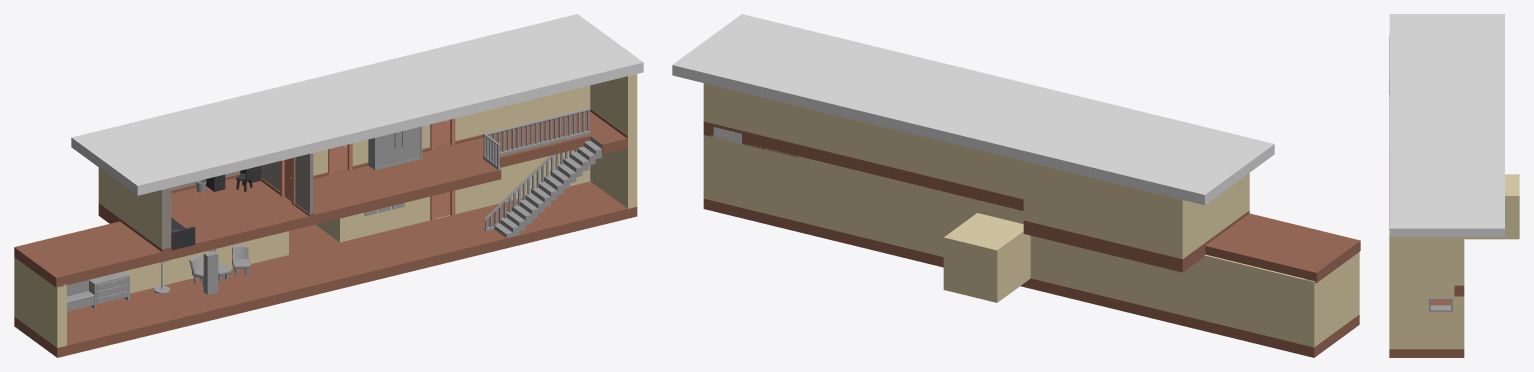
Rendered from Level1.fbx.
The picture shows the model from 3 angles, left to right: view 1: azimuth 30°, elevation 25°; view 2: azimuth 150°, elevation 25°; view 3: azimuth 270°, elevation 25°; orthographic projection. The views are drawn at different scales.
Visible parts, largest first — view 1: Dach, Untergeschoss, Obergeschoss, wand, pCube31, Person, polySurface2, Garderobe, polySurface3, Bett, pCube22, polySurface1; view 2: Untergeschoss, Dach, Obergeschoss; view 3: Dach, wand, Untergeschoss, Obergeschoss, Fenster_Untergeschoss.
Part boxes in pixels (left/top/right/bottom): Dach: left=71, top=14, right=643, bottom=195; Untergeschoss: left=14, top=150, right=637, bottom=357; Obergeschoss: left=14, top=85, right=627, bottom=287; wand: left=590, top=74, right=637, bottom=208; pCube31: left=89, top=271, right=129, bottom=308; Person: left=203, top=251, right=218, bottom=294; polySurface2: left=398, top=127, right=419, bottom=162; Garderobe: left=67, top=280, right=94, bottom=311; polySurface3: left=377, top=132, right=398, bottom=167; Bett: left=171, top=218, right=195, bottom=250; pCube22: left=483, top=130, right=590, bottom=170; polySurface1: left=368, top=126, right=422, bottom=170; Untergeschoss: left=703, top=135, right=1359, bottom=357; Dach: left=672, top=14, right=1274, bottom=205; Obergeschoss: left=703, top=83, right=1360, bottom=283; Dach: left=1389, top=14, right=1504, bottom=236; wand: left=1389, top=230, right=1454, bottom=349; Untergeschoss: left=1389, top=174, right=1519, bottom=357; Obergeschoss: left=1389, top=33, right=1464, bottom=296; Fenster_Untergeschoss: left=1429, top=298, right=1452, bottom=311.
Bounding box in the file's own units: 24.97 × 6.18 × 5.52.
